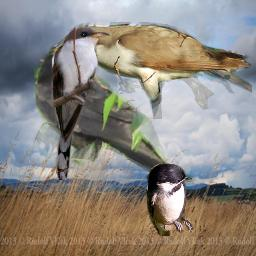Crow: (34, 49, 173, 175)
Cuckoo: (49, 22, 252, 119), (50, 25, 110, 180)
Swallow: (145, 161, 195, 236)
